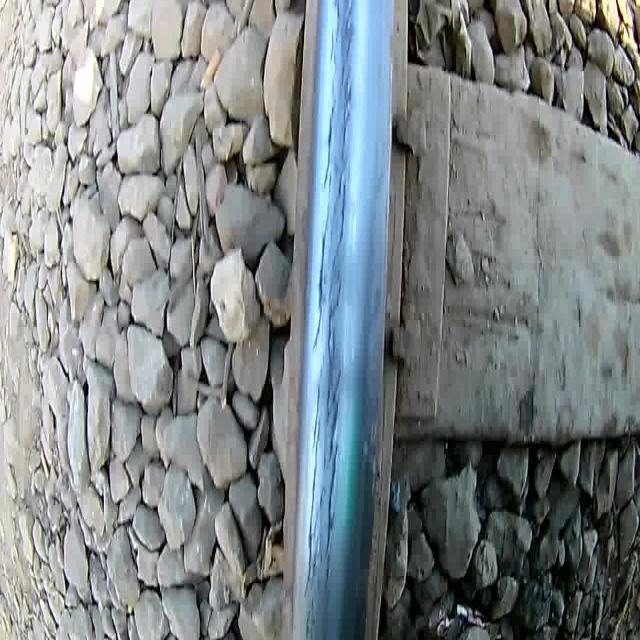Cracks: (301, 0, 360, 640)
